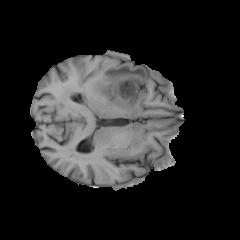glioma: (102, 64, 146, 106)
